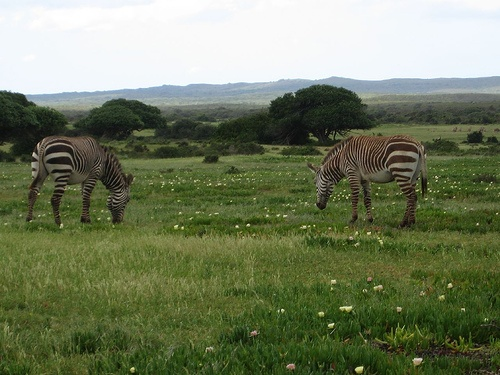zebra: (367, 180, 490, 274), (80, 179, 190, 270)
